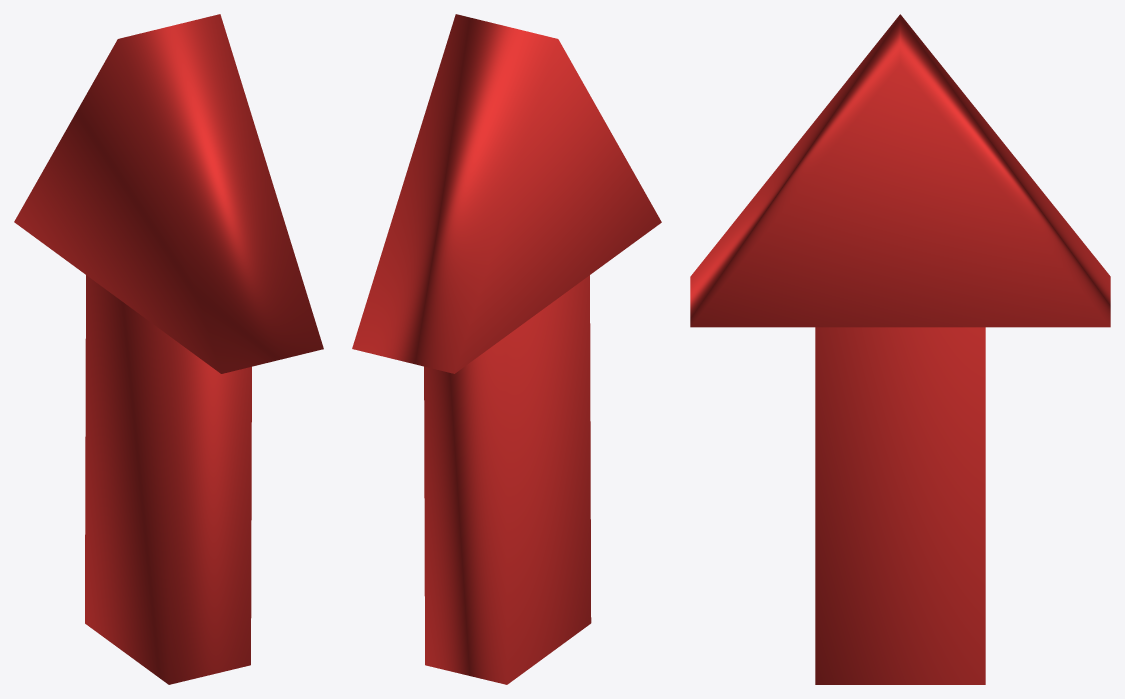
Rendered from Arrow.fbx.
The picture shows the model from 3 angles, left to right: view 1: azimuth 30°, elevation 25°; view 2: azimuth 150°, elevation 25°; view 3: azimuth 270°, elevation 25°; orthographic projection.
Parts seen in each view (by area): view 1: Cylinder, Cube; view 2: Cylinder, Cube; view 3: Cylinder, Cube.
Part boxes in pixels (box(x1,y1,x2,y2)): Cylinder: box(14, 14, 323, 373); Cube: box(85, 275, 251, 684); Cylinder: box(352, 14, 661, 373); Cube: box(424, 275, 591, 684); Cylinder: box(690, 14, 1110, 327); Cube: box(815, 327, 985, 684).
Size of the model in its own units: 100 by 575 by 350.
